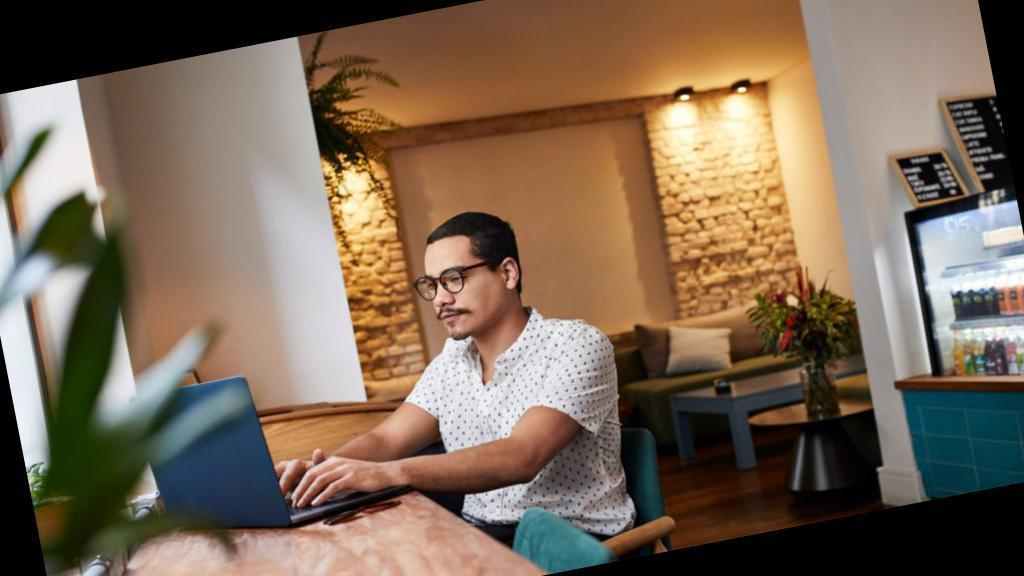Sober: (427, 243, 501, 339)
